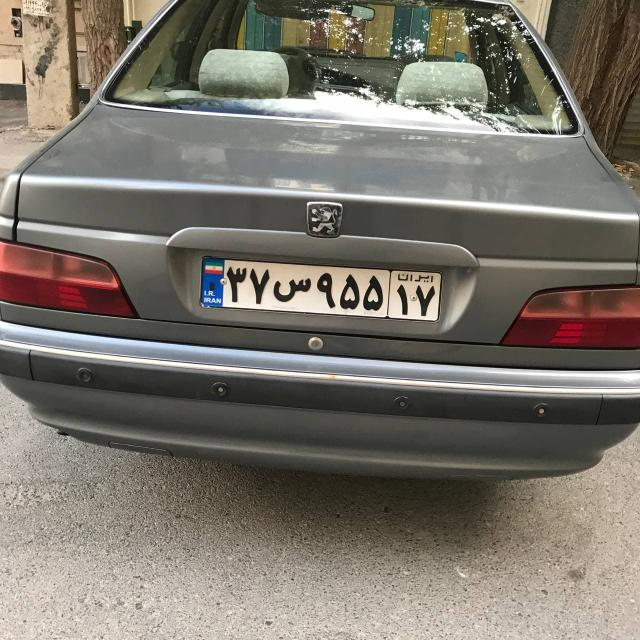Plates: (199, 256, 442, 322)
